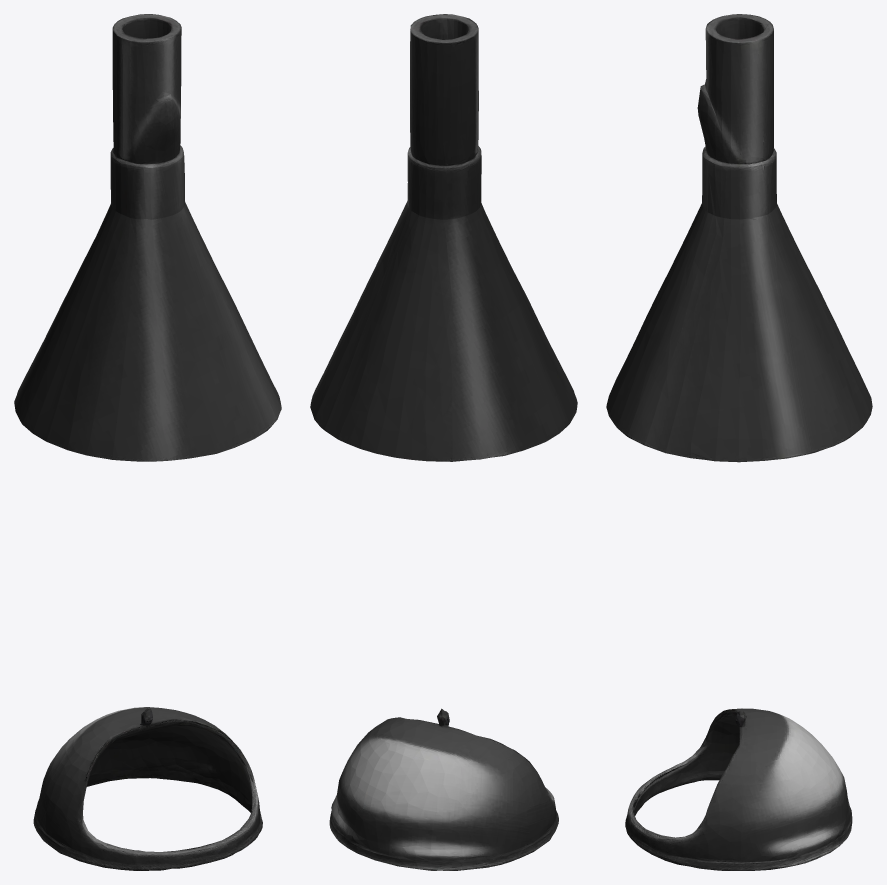
3 views of the same model, side by side, from view 1: azimuth 30°, elevation 25°; view 2: azimuth 150°, elevation 25°; view 3: azimuth 270°, elevation 25° (orthographic).
Parts seen in each view (by area): view 1: world; view 2: world; view 3: world.
Part boxes in pixels (x1,y1,x2,y2): world: [14, 14, 281, 870]; world: [310, 14, 577, 870]; world: [606, 14, 872, 870].
Bounding box in the file's own units: 0.3037 × 0.9993 × 0.3032.
1 material, 1 textured.
